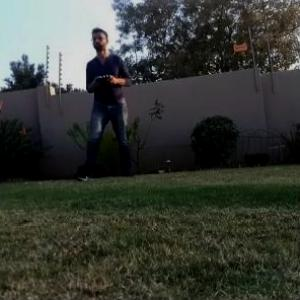follow: (73, 21, 138, 188)
